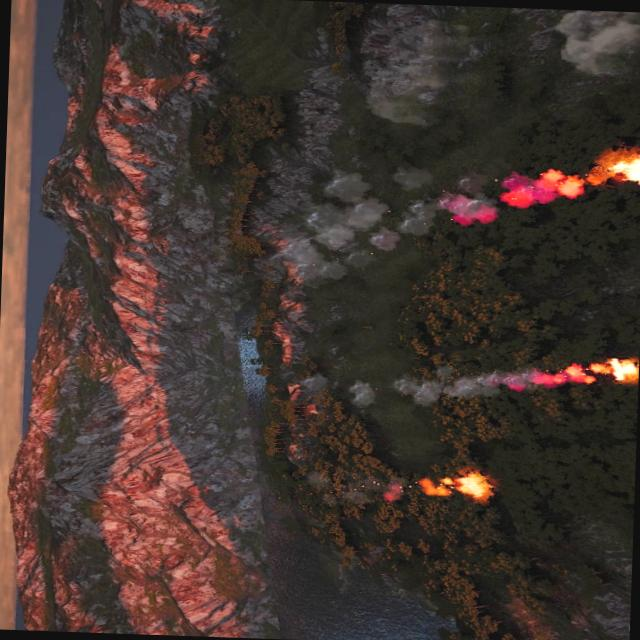fire: (547, 7, 640, 80), (501, 164, 592, 206), (442, 469, 492, 499), (589, 354, 639, 382), (542, 360, 596, 385), (607, 150, 640, 183), (382, 482, 403, 500)
smoke: (283, 147, 600, 287), (305, 352, 559, 413)
